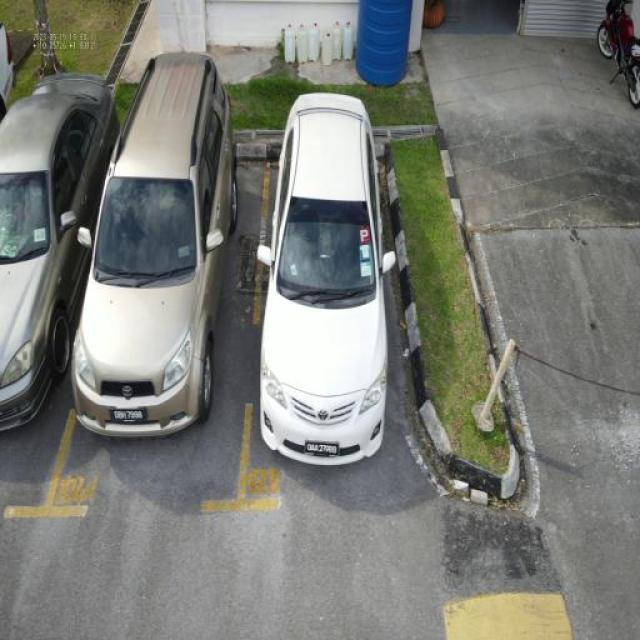Legalparking: (0, 49, 425, 490)
